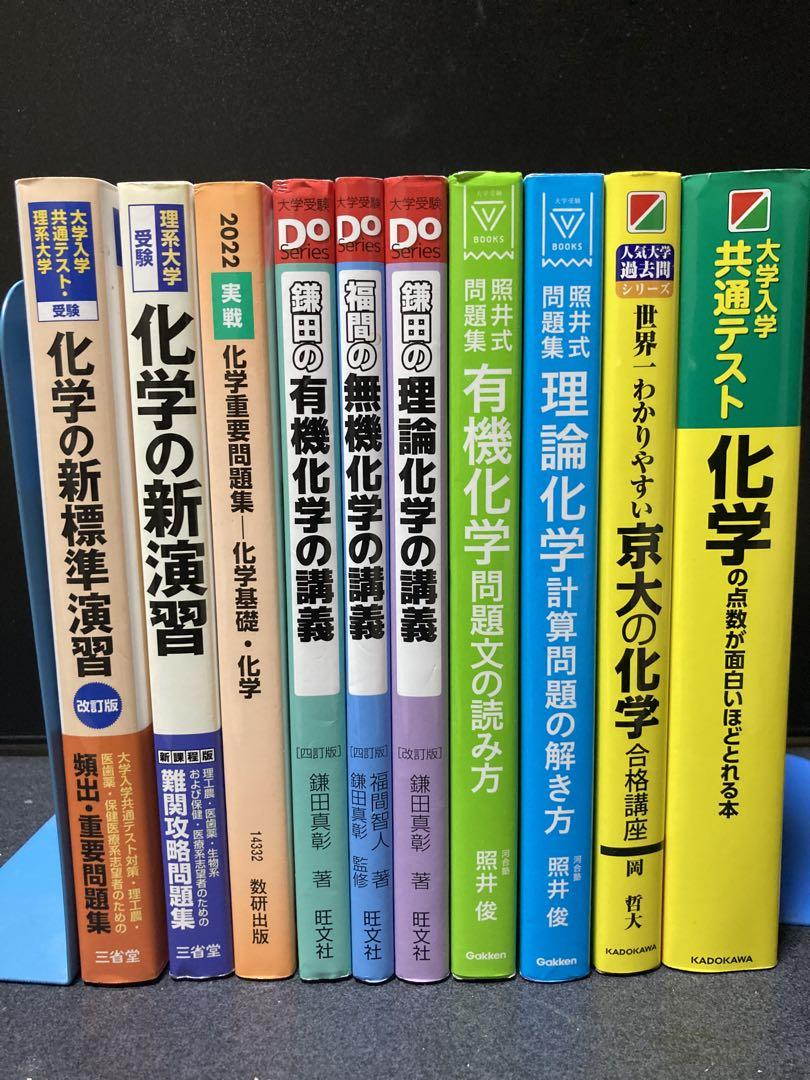book: (668, 166, 796, 977), (518, 163, 604, 985), (597, 163, 681, 978), (444, 166, 524, 980), (381, 169, 452, 990), (277, 171, 340, 979), (334, 176, 396, 986)
